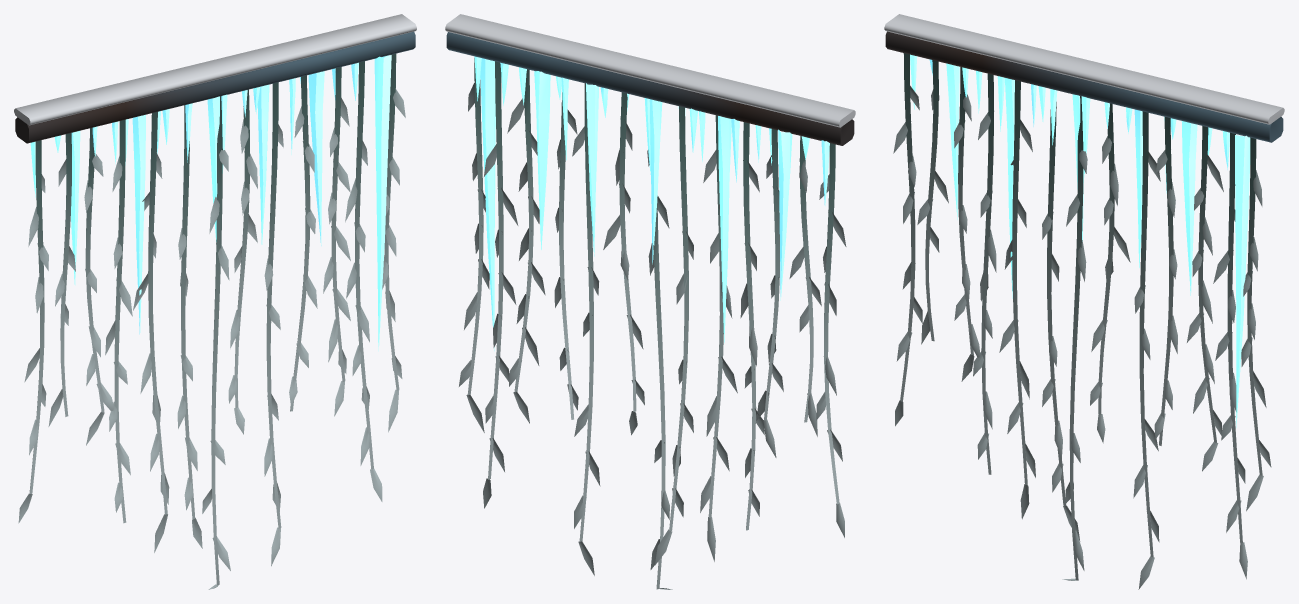
The model's file is curtain_snow.glb.
The picture shows the model from 3 angles, left to right: view 1: azimuth 30°, elevation 25°; view 2: azimuth 150°, elevation 25°; view 3: azimuth 330°, elevation 25°; orthographic projection. The views are drawn at different scales.
Parts seen in each view (by area): view 1: curtain_snow; view 2: curtain_snow; view 3: curtain_snow.
Part boxes in pixels (left/top/right/bottom): curtain_snow: left=14, top=14, right=416, bottom=589; curtain_snow: left=445, top=14, right=855, bottom=589; curtain_snow: left=884, top=14, right=1284, bottom=589.
Bounding box in the file's own units: 3.3 × 4.2 × 0.2471.
